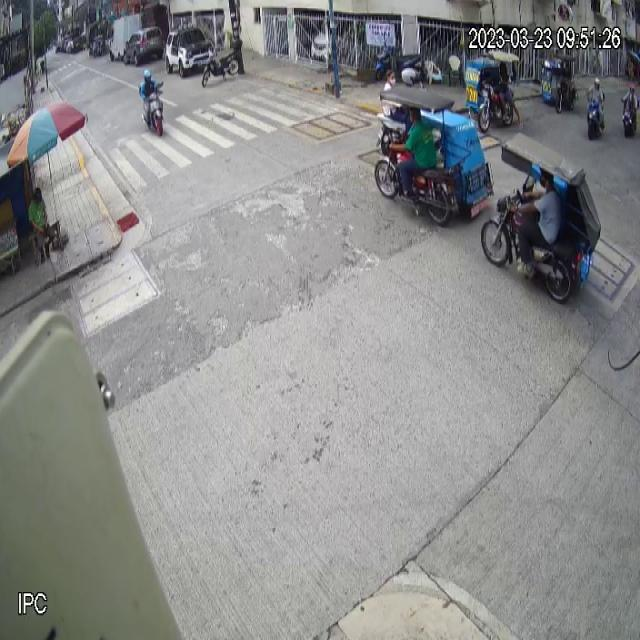Motorcycle: (201, 46, 240, 88)
Tricycle: (480, 132, 601, 304), (375, 84, 494, 227), (464, 50, 519, 133), (540, 53, 578, 115)
